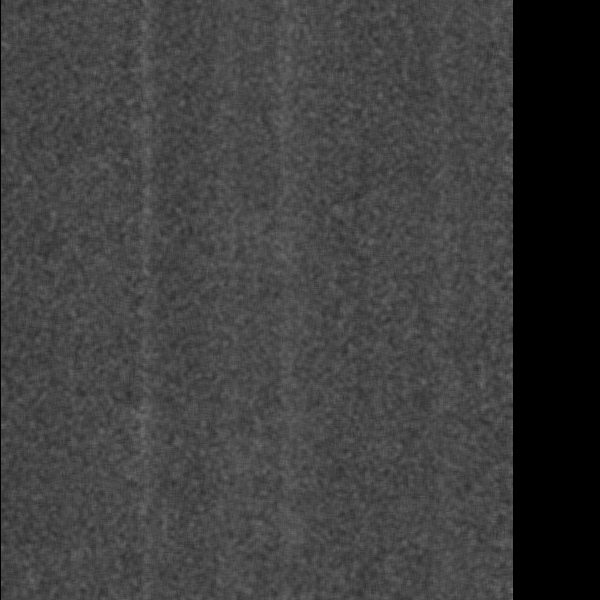spark: (295, 58, 323, 98)
